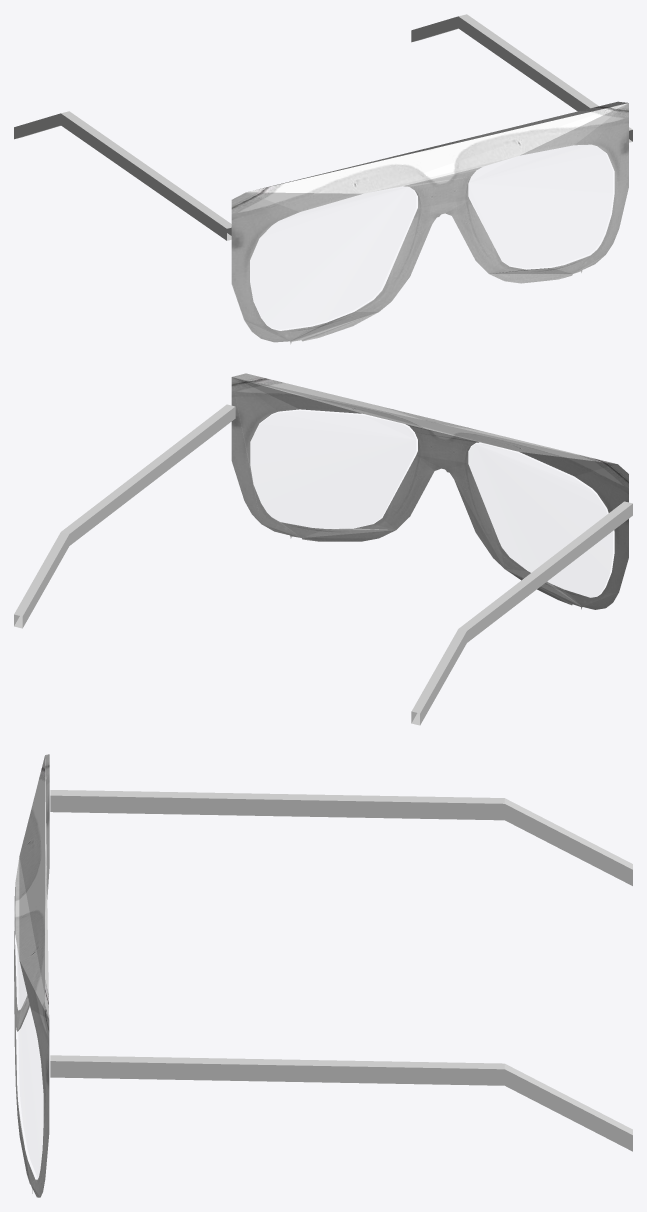
Rendered from gothamstyle-matte-collection-254_matte-crystal.glb.
3 views of the same model, one above another, from view 1: azimuth 30°, elevation 25°; view 2: azimuth 150°, elevation 25°; view 3: azimuth 270°, elevation 25° (orthographic). The views are drawn at different scales.
Visible parts, largest first — view 1: frame_front, temple_viewer_left, temple_viewer_right; view 2: frame_front, temple_viewer_right, temple_viewer_left; view 3: temple_viewer_left, temple_viewer_right, frame_front.
Boxes of the visible parts, x1,y1,x2,y2 form: frame_front: (231, 101, 628, 344); temple_viewer_left: (14, 111, 231, 240); temple_viewer_right: (411, 14, 632, 142); frame_front: (231, 373, 628, 609); temple_viewer_right: (14, 404, 235, 628); temple_viewer_left: (411, 501, 632, 725); temple_viewer_left: (50, 790, 632, 885); temple_viewer_right: (50, 1055, 632, 1151); frame_front: (14, 754, 49, 1197).
Bounding box in the file's own units: 0.141 × 0.0528 × 0.136.
3 materials, 2 textured.
